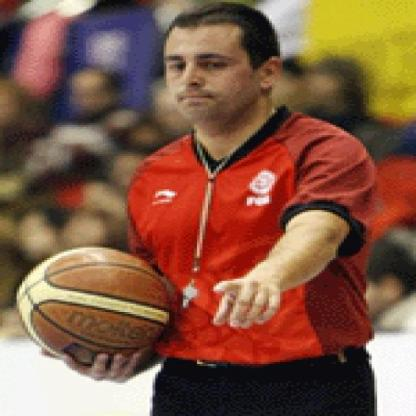basketball: (10, 246, 174, 370)
